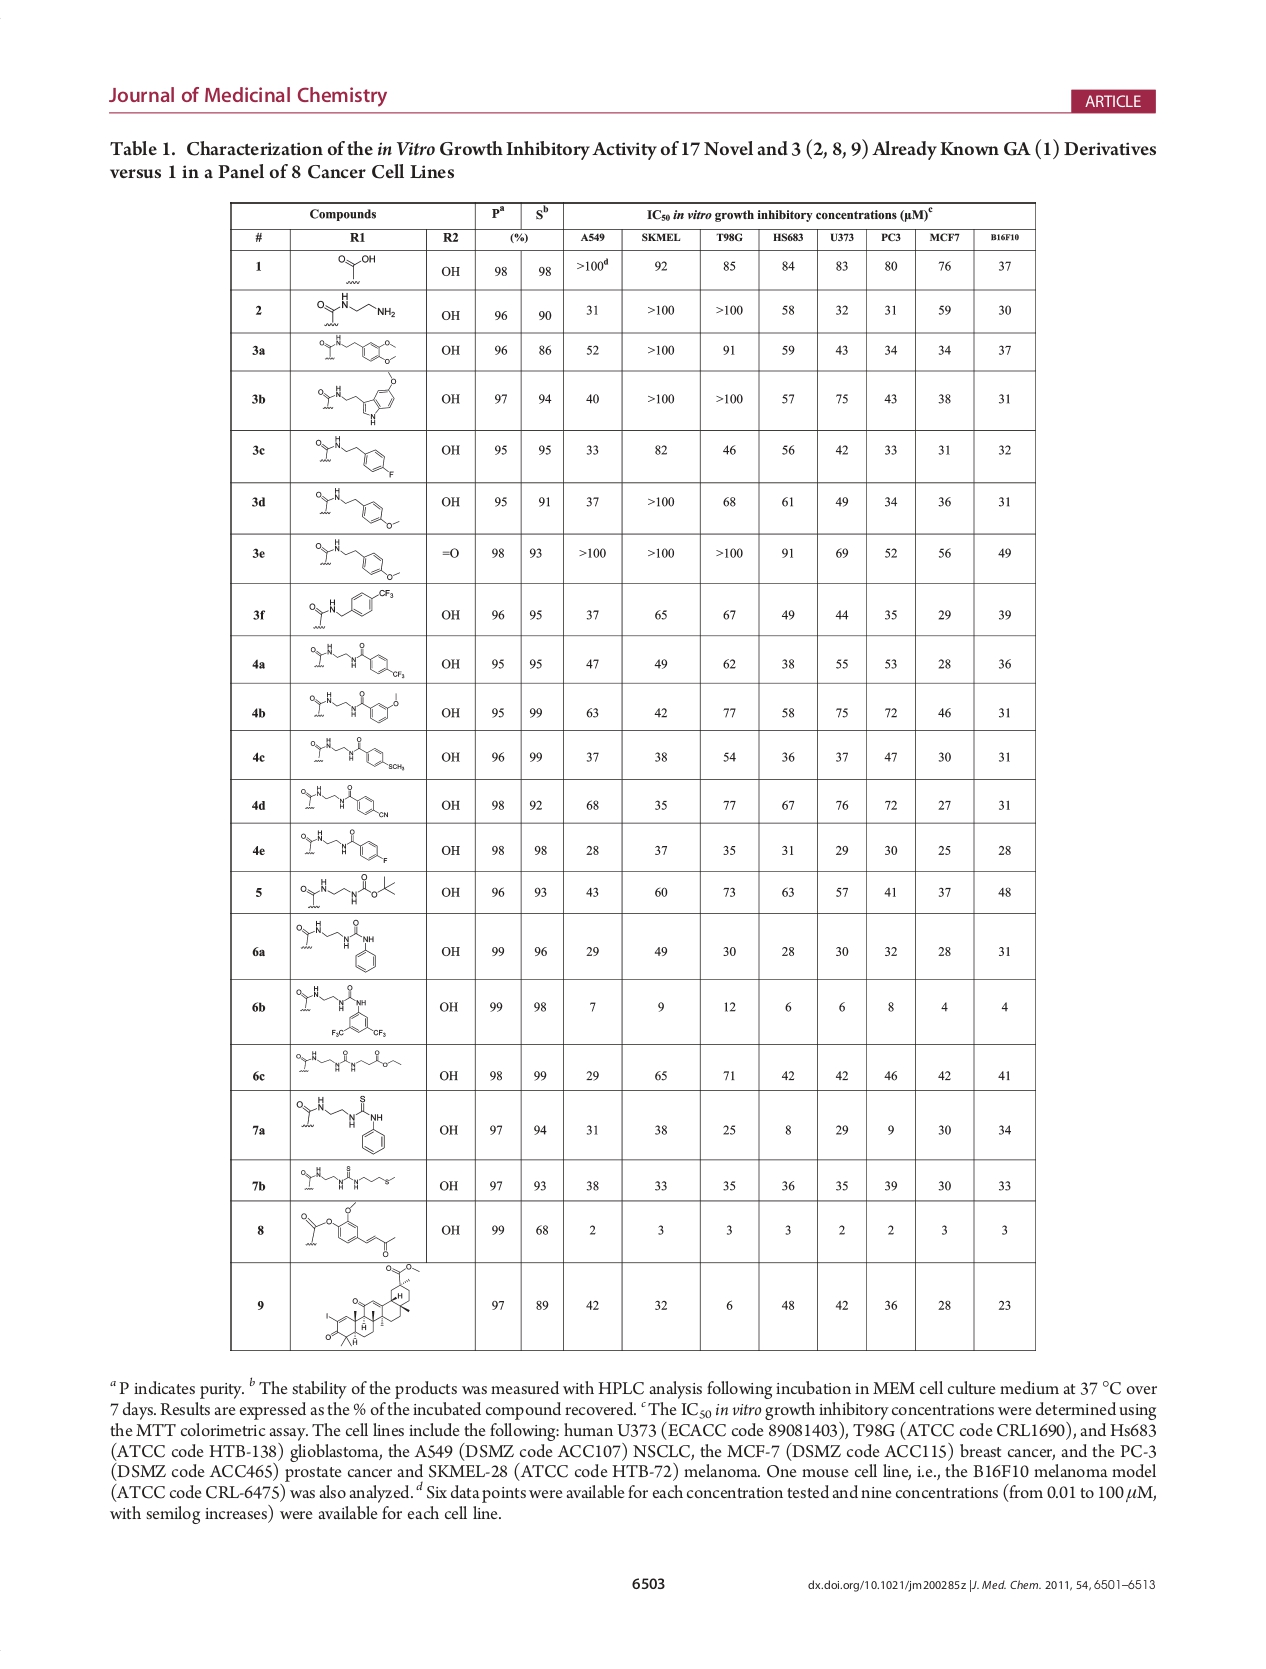exist_molecular: (322, 1263, 422, 1347), (295, 1094, 388, 1157), (299, 1201, 398, 1258), (295, 983, 386, 1039), (294, 918, 379, 973), (315, 371, 399, 427), (307, 640, 406, 680), (307, 734, 406, 774), (313, 485, 399, 531), (313, 537, 400, 581), (305, 688, 402, 726), (309, 586, 394, 630), (314, 434, 395, 477), (299, 874, 398, 910), (301, 826, 388, 866), (297, 783, 391, 818), (298, 1164, 398, 1193), (316, 293, 396, 328), (293, 1049, 402, 1075), (316, 334, 399, 366), (335, 253, 378, 286)
